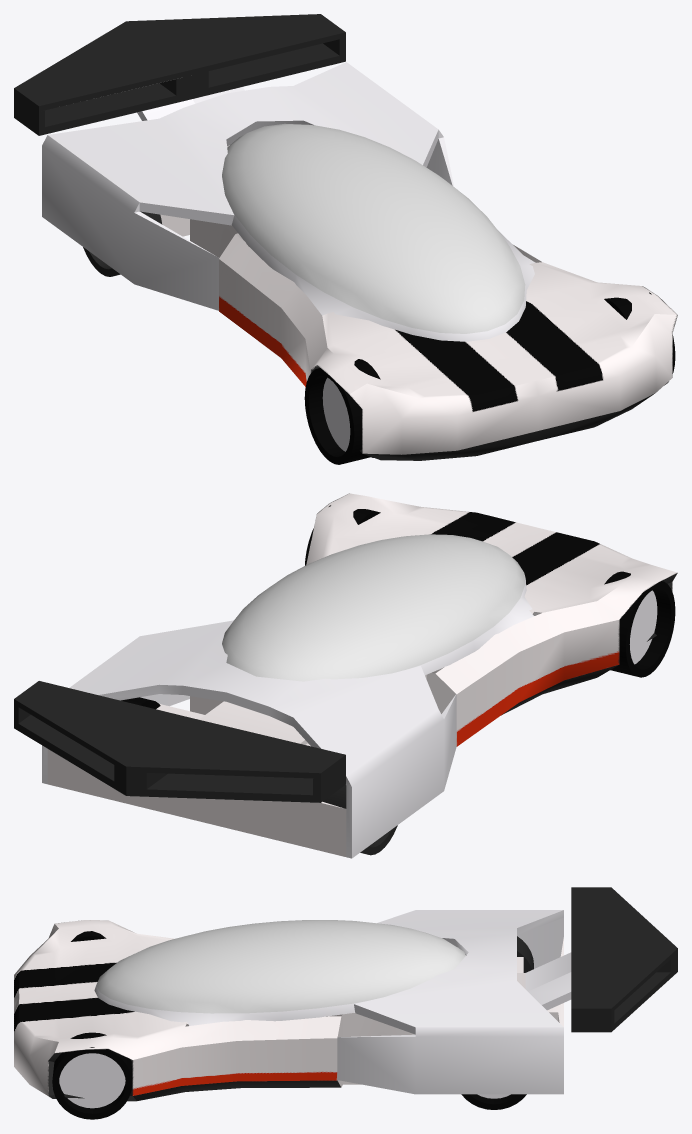
The model's file is Fordzilla model.fbx.
3 renders of one model, top to bottom at view 1: azimuth 30°, elevation 25°; view 2: azimuth 150°, elevation 25°; view 3: azimuth 270°, elevation 25°, orthographic. The views are drawn at different scales.
Parts seen in each view (by area): view 1: Cube.007; view 2: Cube.007; view 3: Cube.007.
Boxes of the visible parts, x1,y1,x2,y2 form: Cube.007: (14, 14, 677, 464); Cube.007: (14, 493, 677, 858); Cube.007: (14, 887, 677, 1119).
Bounding box in the file's own units: 765 × 335 × 1663.
